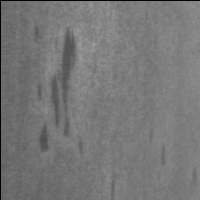inclusion: (46, 20, 81, 143), (139, 123, 172, 169), (30, 116, 53, 156), (104, 163, 122, 200)
